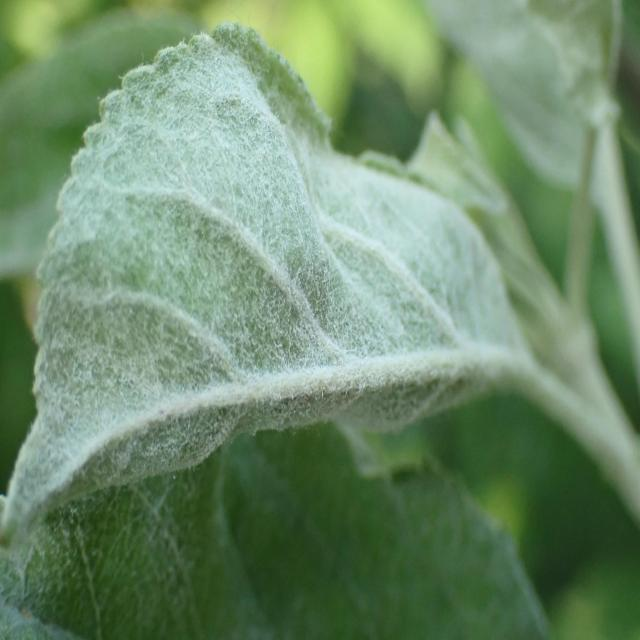Powdery_mildew: (0, 0, 560, 541), (1, 406, 578, 640), (439, 0, 636, 308)
